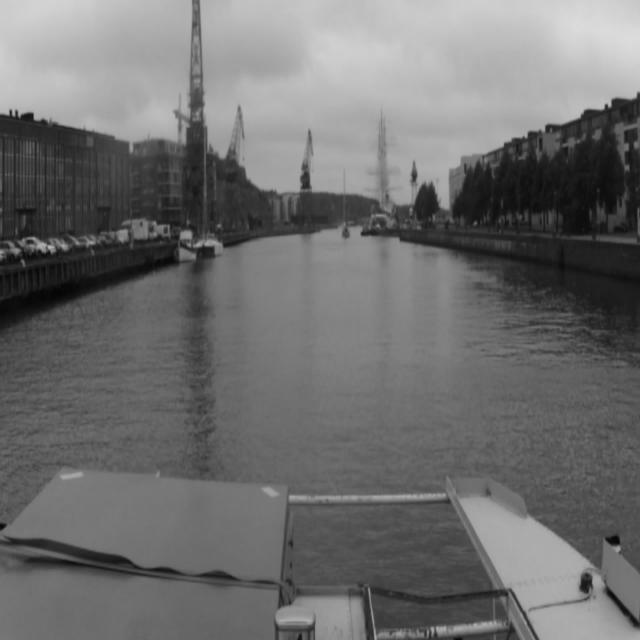ship: (360, 114, 402, 228), (192, 123, 226, 256), (174, 230, 194, 268), (340, 168, 350, 239)
